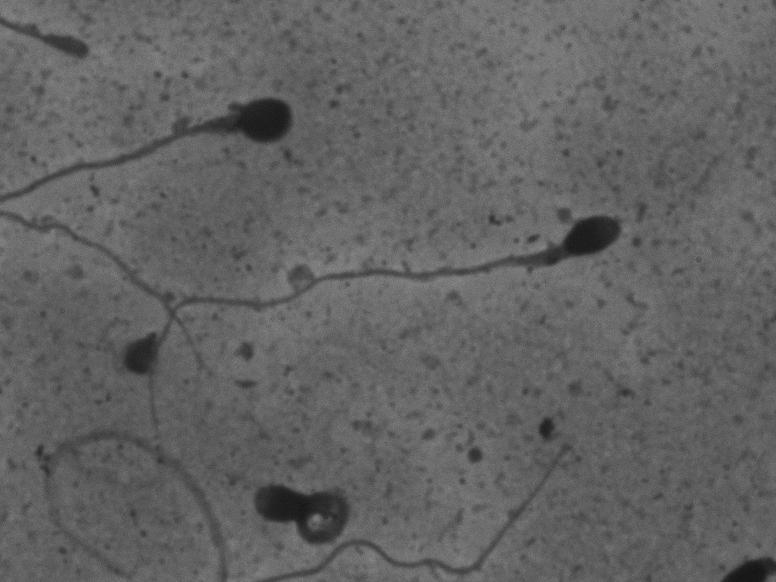Abnormal: (139, 201, 652, 478), (6, 79, 313, 220), (254, 459, 362, 558)
